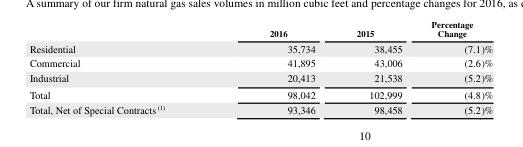table: (28, 28, 492, 115)
table column: (28, 28, 216, 115), (216, 28, 335, 115), (335, 28, 419, 115), (419, 28, 492, 115)
table column header: (28, 28, 492, 40)
table row: (28, 40, 492, 56), (28, 70, 492, 86), (28, 86, 492, 102), (28, 56, 492, 70), (28, 102, 492, 115), (28, 28, 492, 40)
